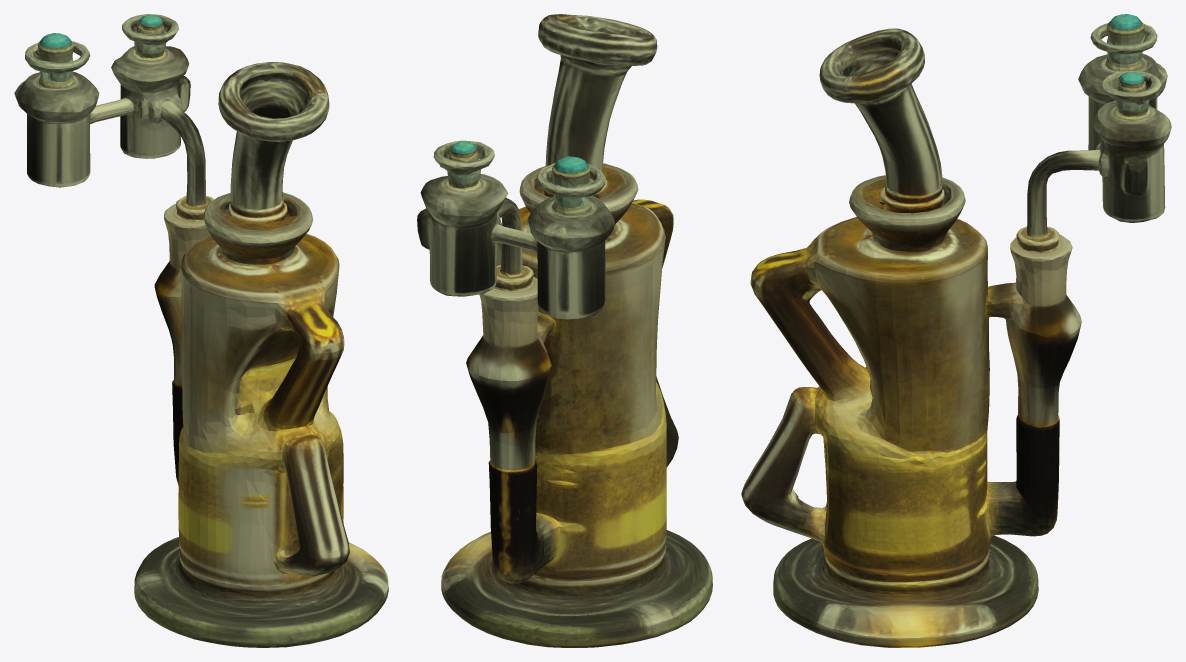
Rendered from hero.glb.
3 renders of one model, left to right at view 1: azimuth 30°, elevation 25°; view 2: azimuth 150°, elevation 25°; view 3: azimuth 270°, elevation 25°, orthographic. The views are drawn at different scales.
Visible parts, largest first — view 1: world; view 2: world; view 3: world.
Boxes of the visible parts, x1,y1,x2,y2 form: world: (14, 14, 388, 647); world: (417, 14, 712, 647); world: (741, 14, 1171, 647).
Size of the model in its own units: 0.3365 by 0.6973 by 0.4916.
Materials: 1 (1 with a texture image).
